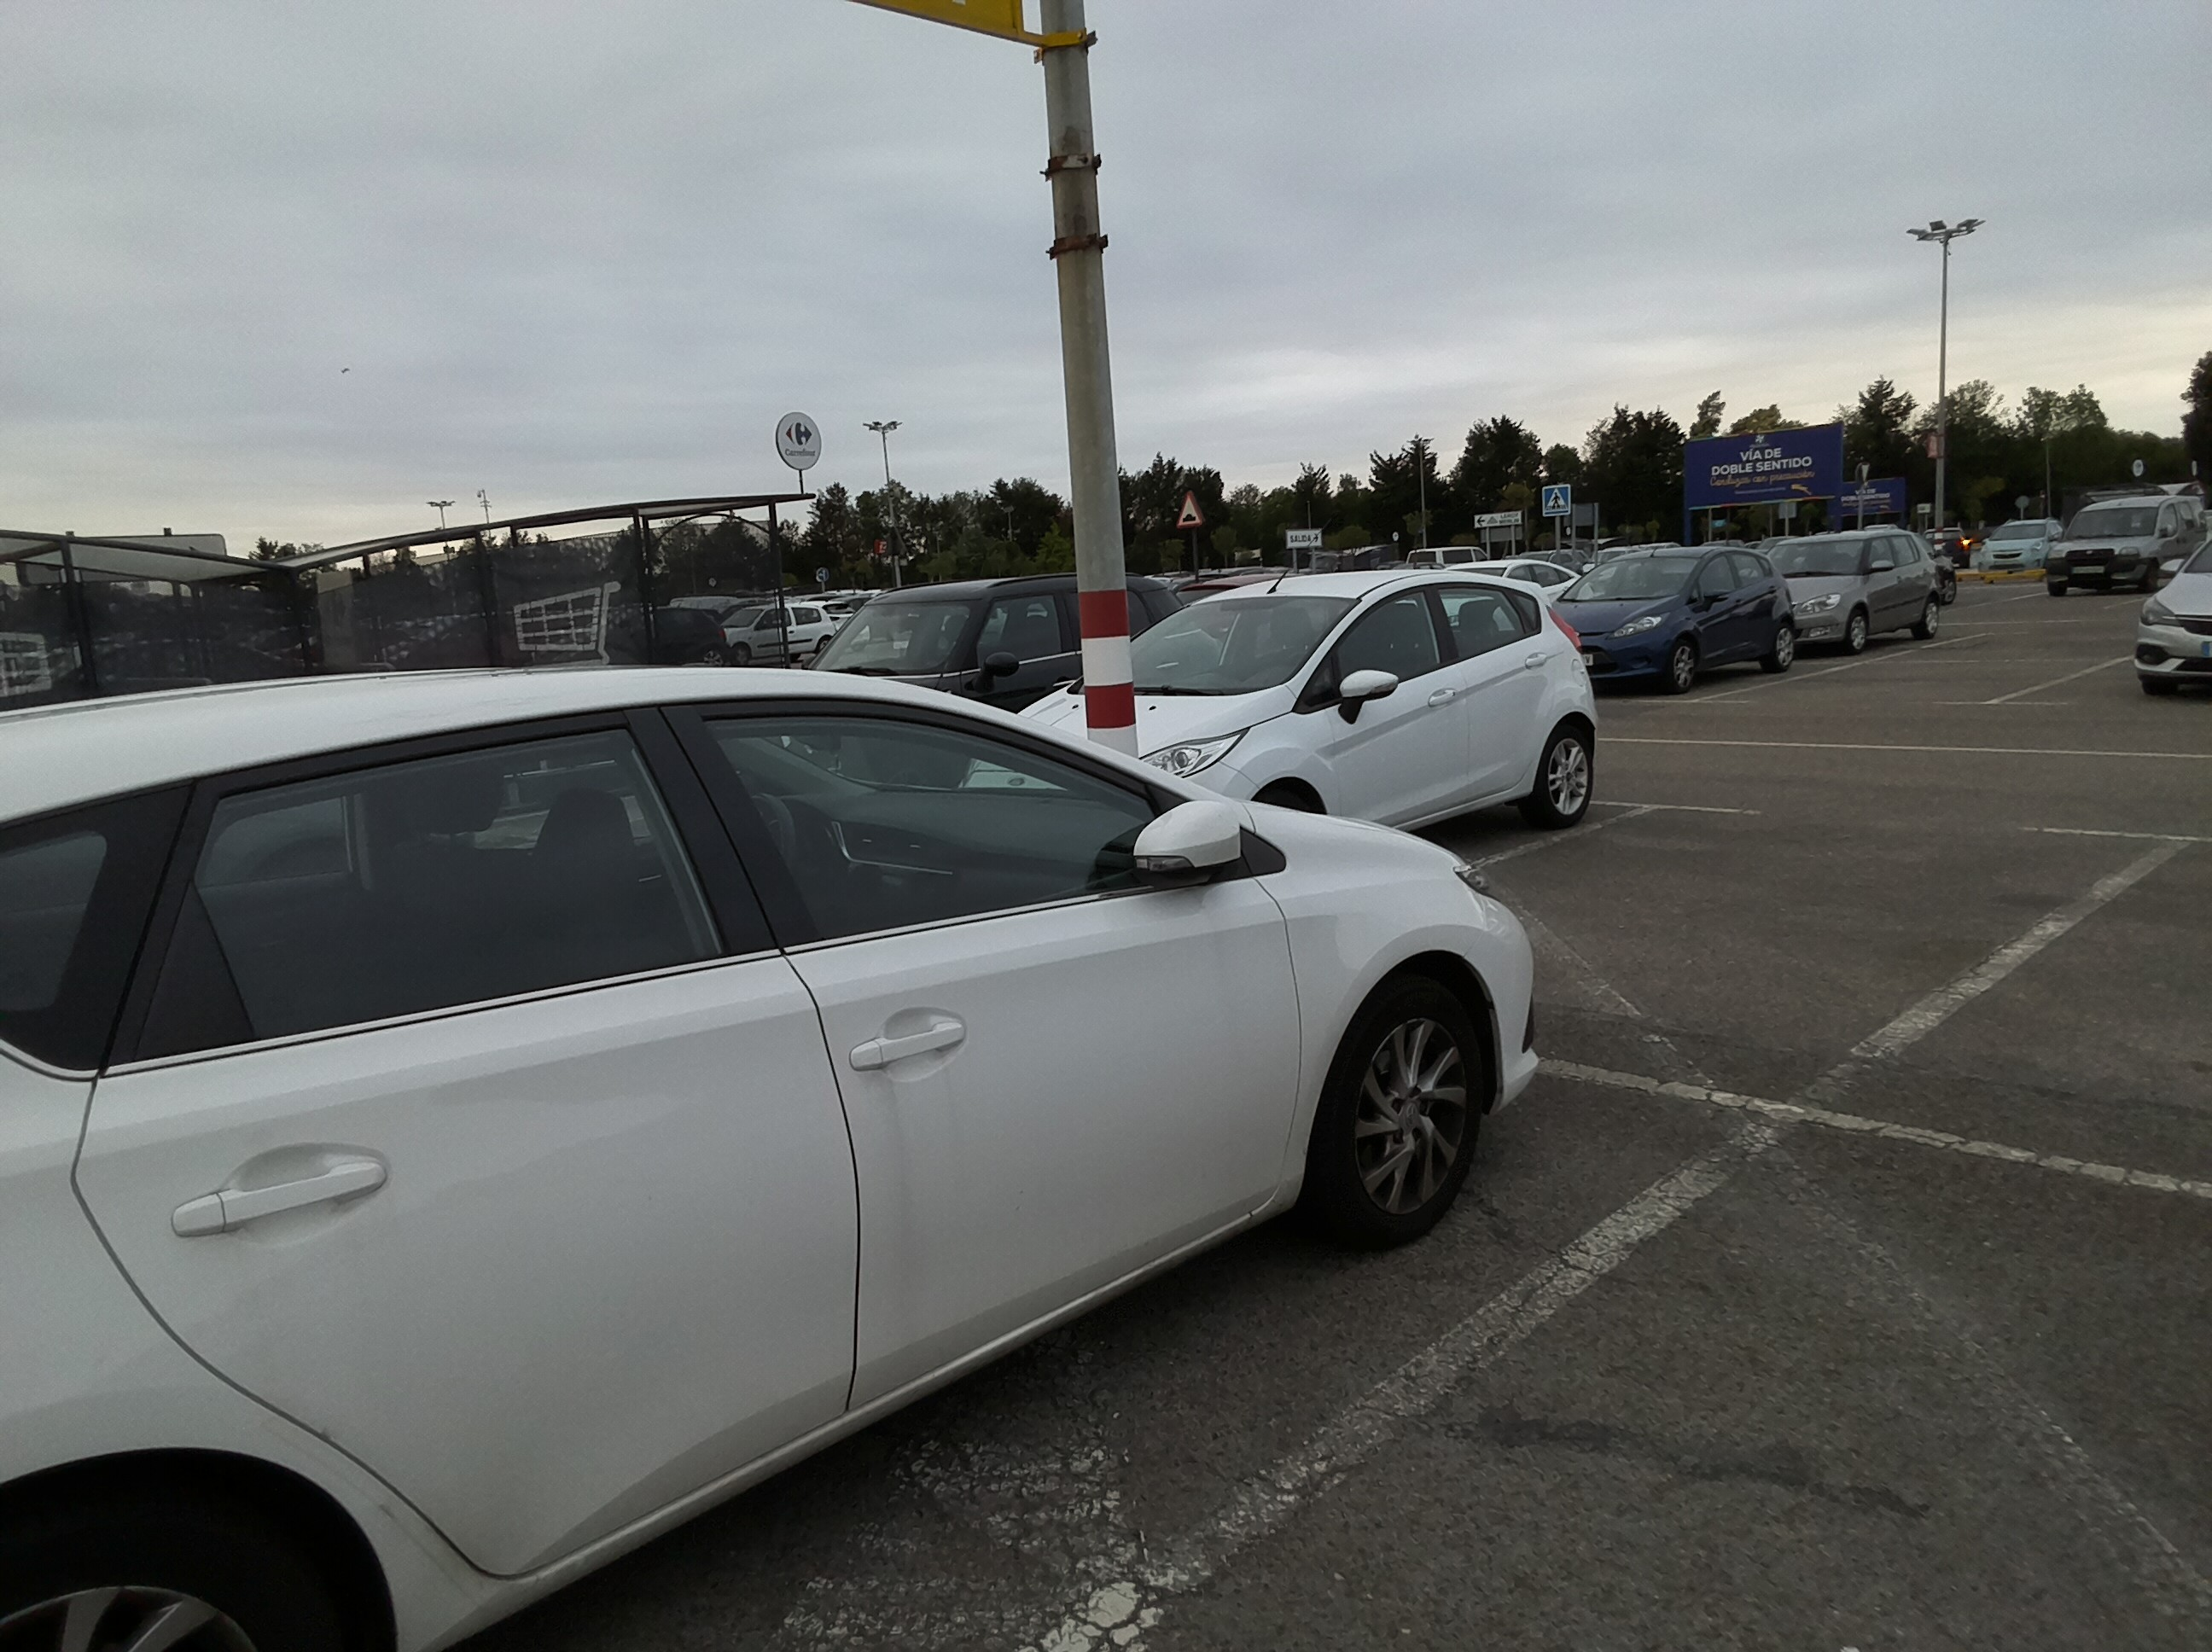Poste: (1010, 0, 1194, 781)
Vehiculo: (0, 614, 1561, 1652), (954, 564, 1676, 862)
